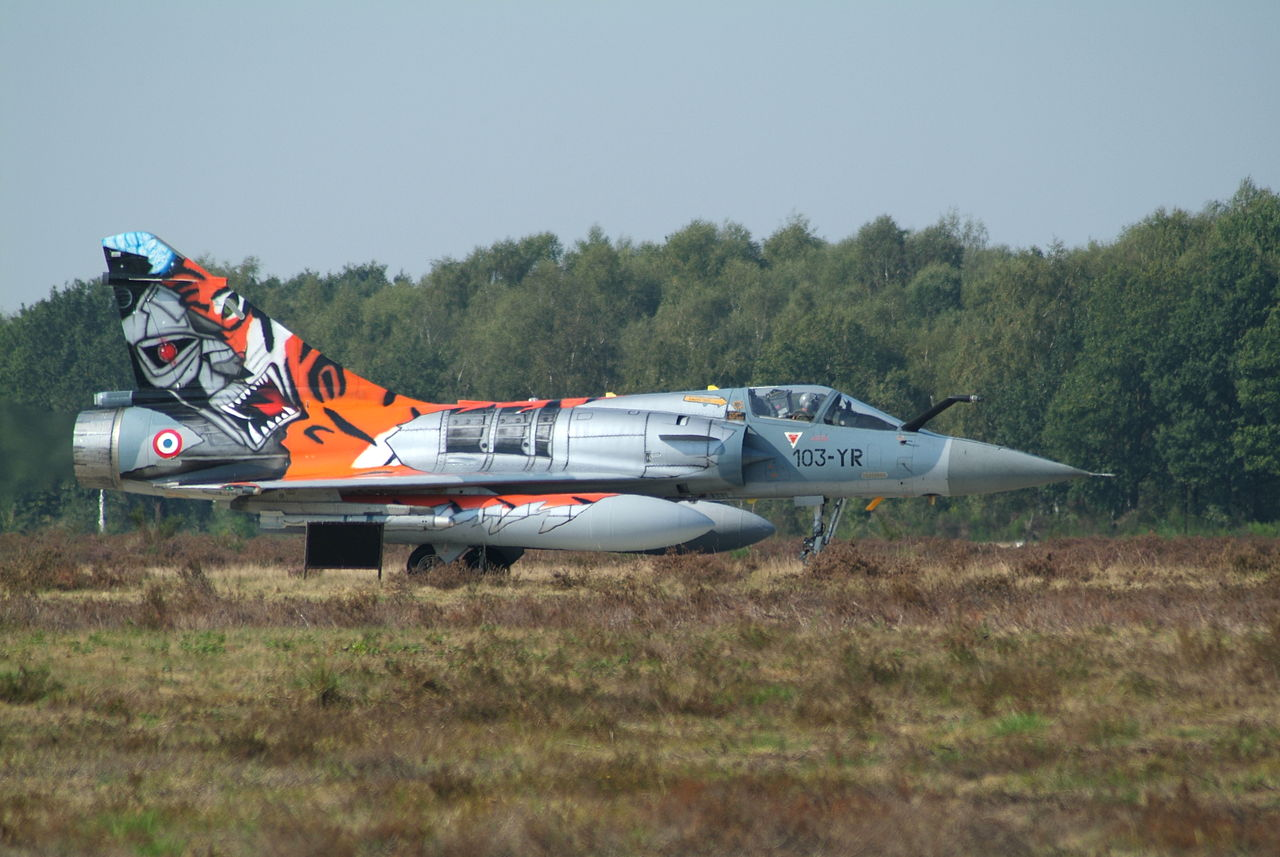Mirage2000: (72, 230, 1117, 575)
